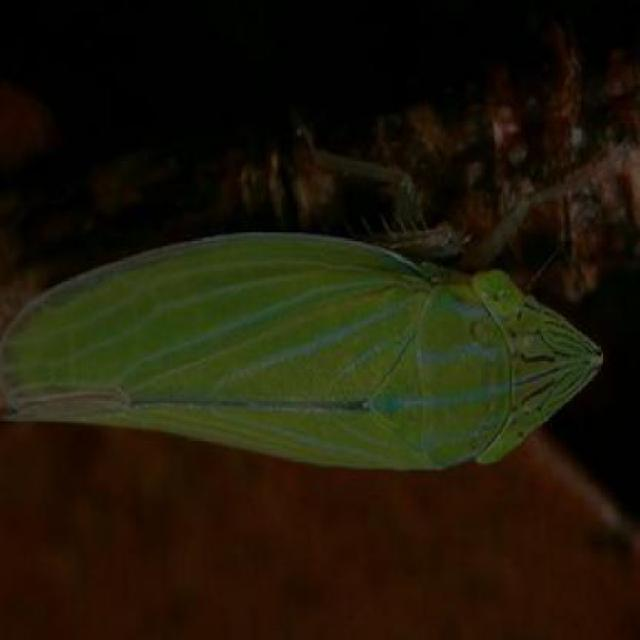green-leafhopper: (11, 226, 600, 474)
